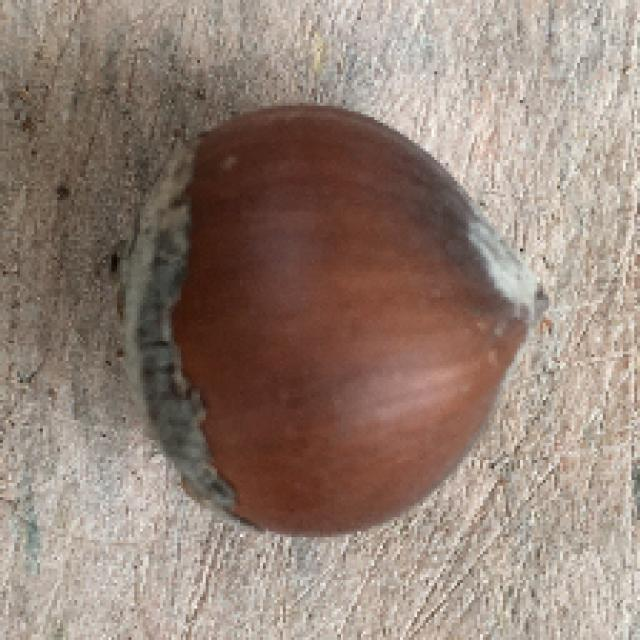damagedHazelnut: (110, 94, 552, 527)
